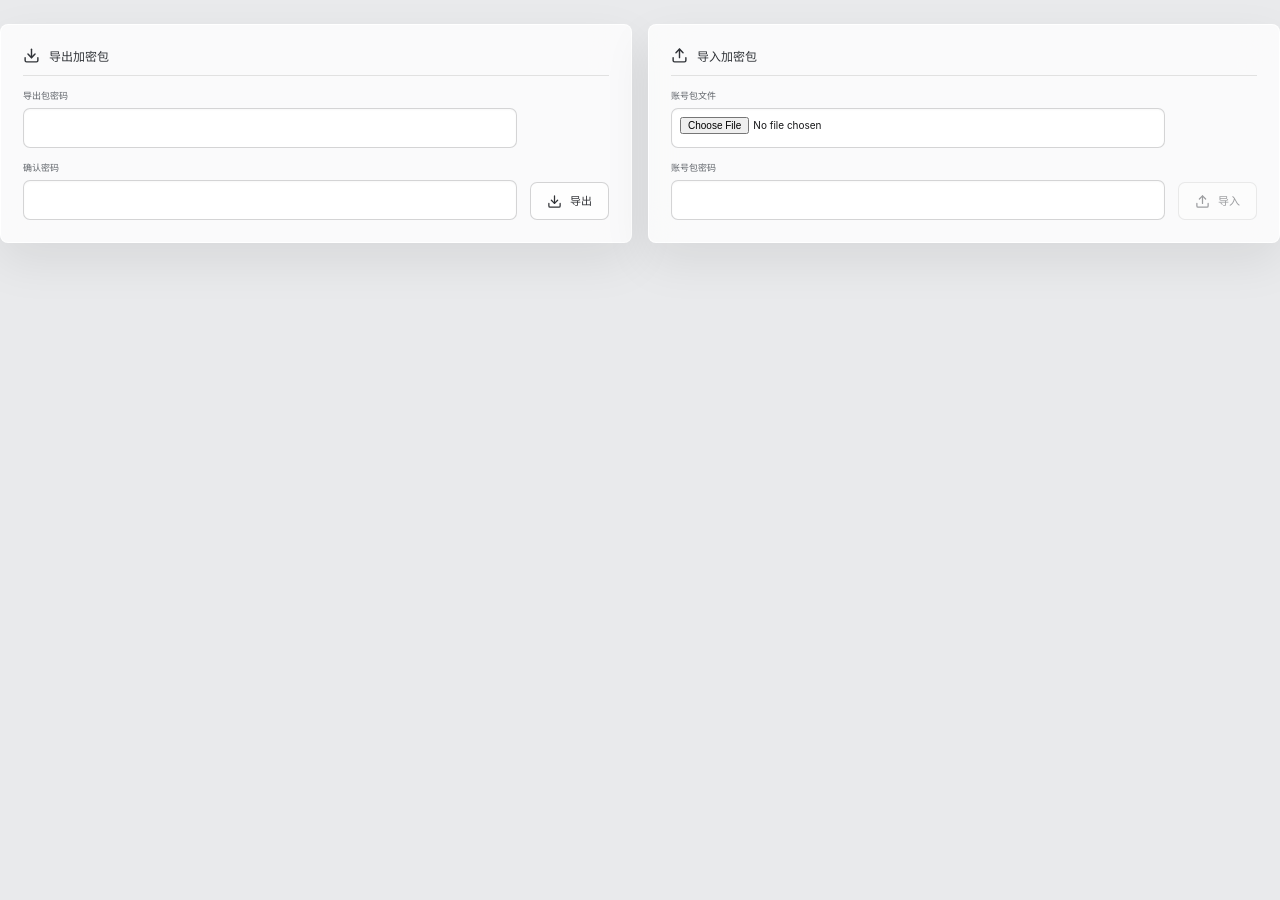
Test: AccountTransfer › downloads a successful encrypted export and clears passwords
The width and height of the screenshot is (1280, 900).
Type "matching bundle password" into the password field labelled "导出包密码" at (270, 128), box [23,108,517,148]
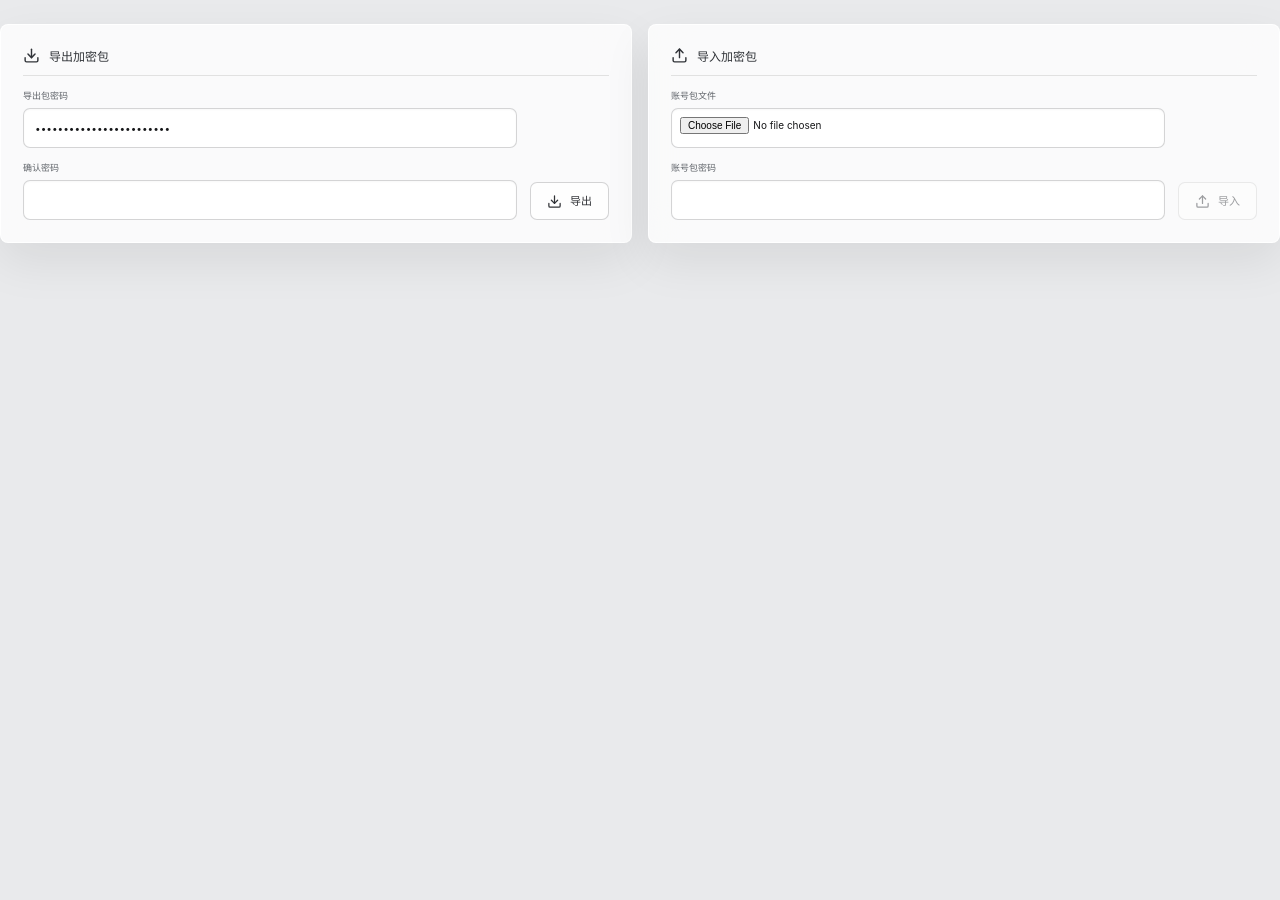
Type "matching bundle password" into the password field labelled "确认密码" at (270, 200), box [23,180,517,220]
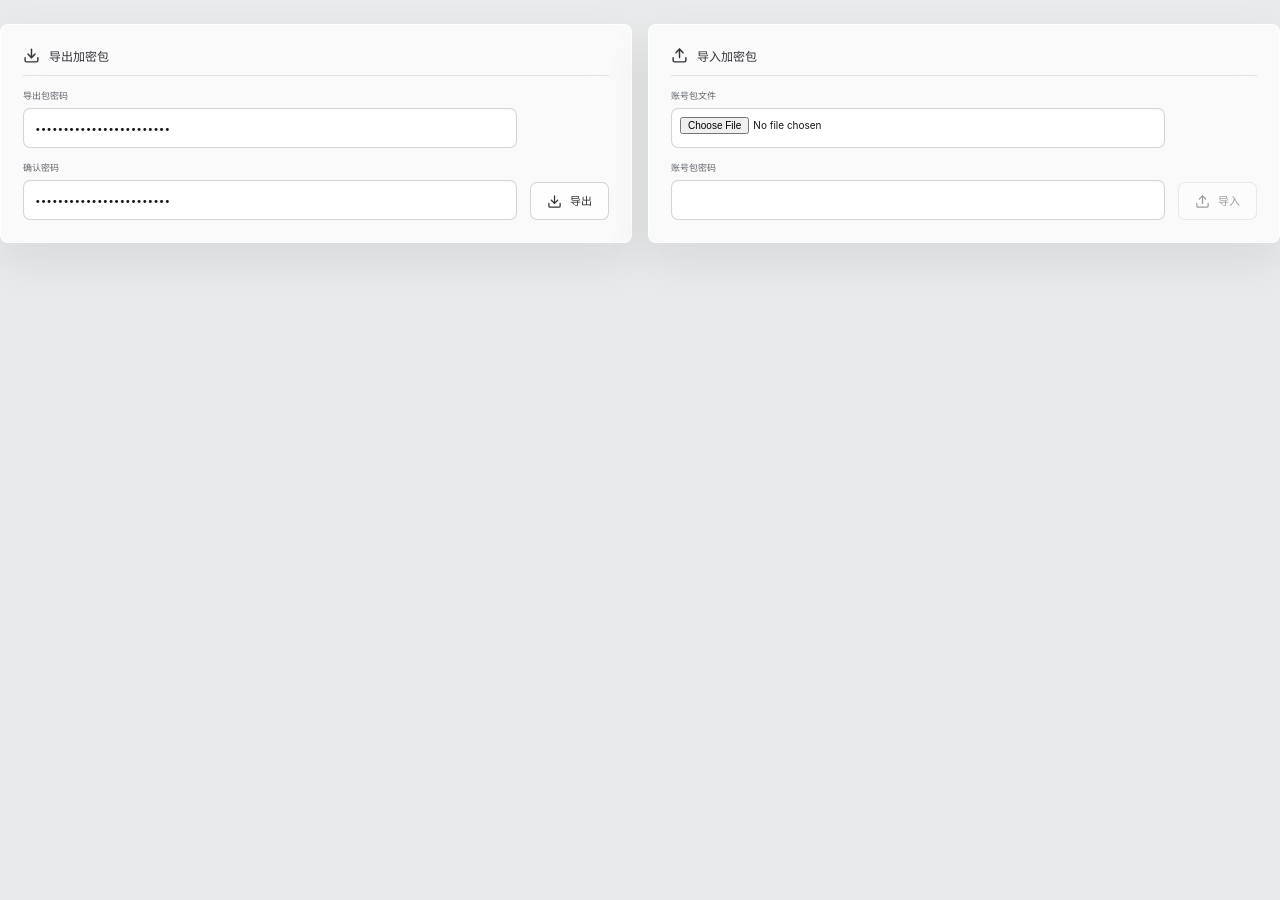
Click the button "导出" at (570, 201), box [530,182,609,220]
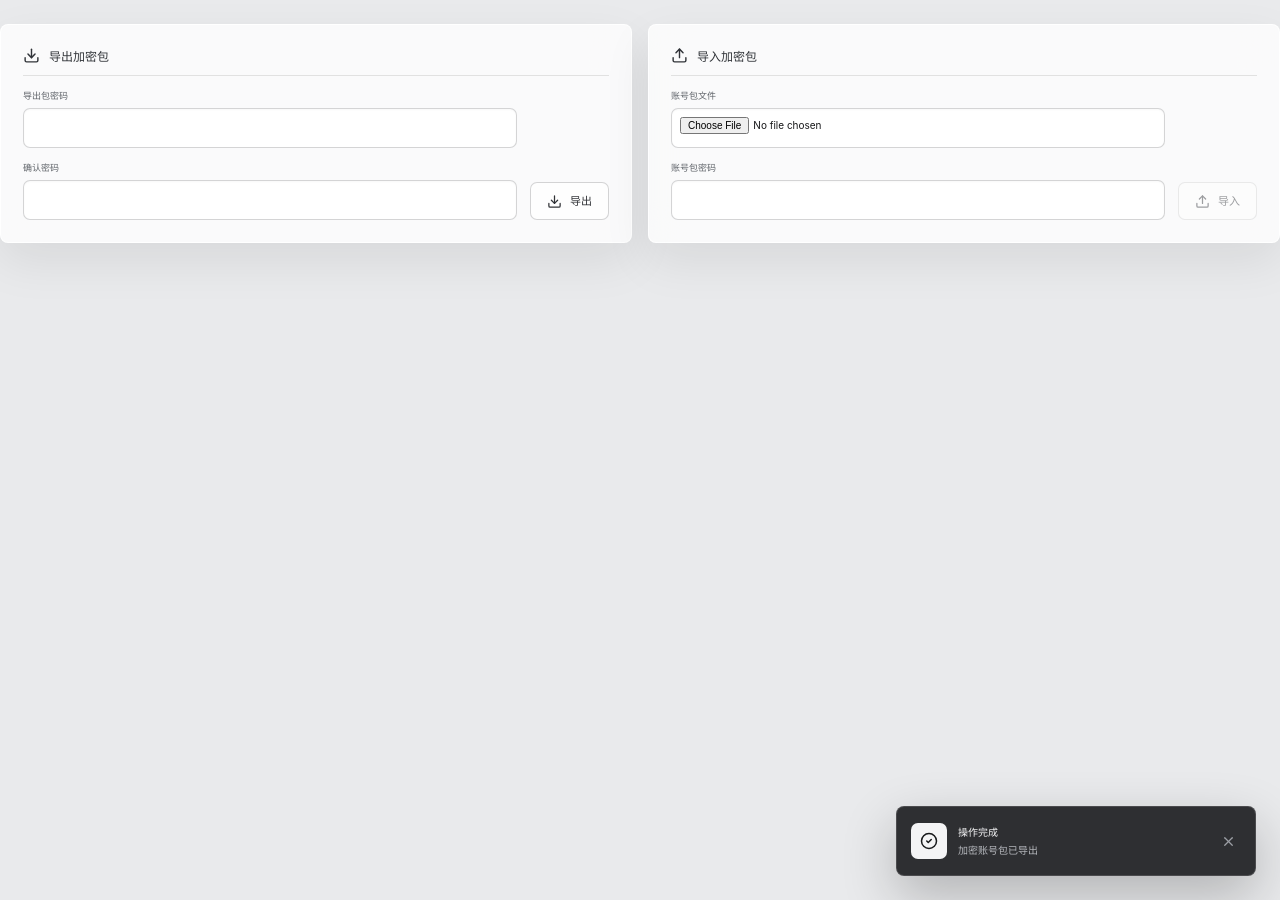
Expected: the message shows "加密账号包已导出", [958,844,1038,856]
Expected: the password field labelled "导出包密码" is empty, [23,108,517,148]
Expected: the password field labelled "确认密码" is empty, [23,180,517,220]
